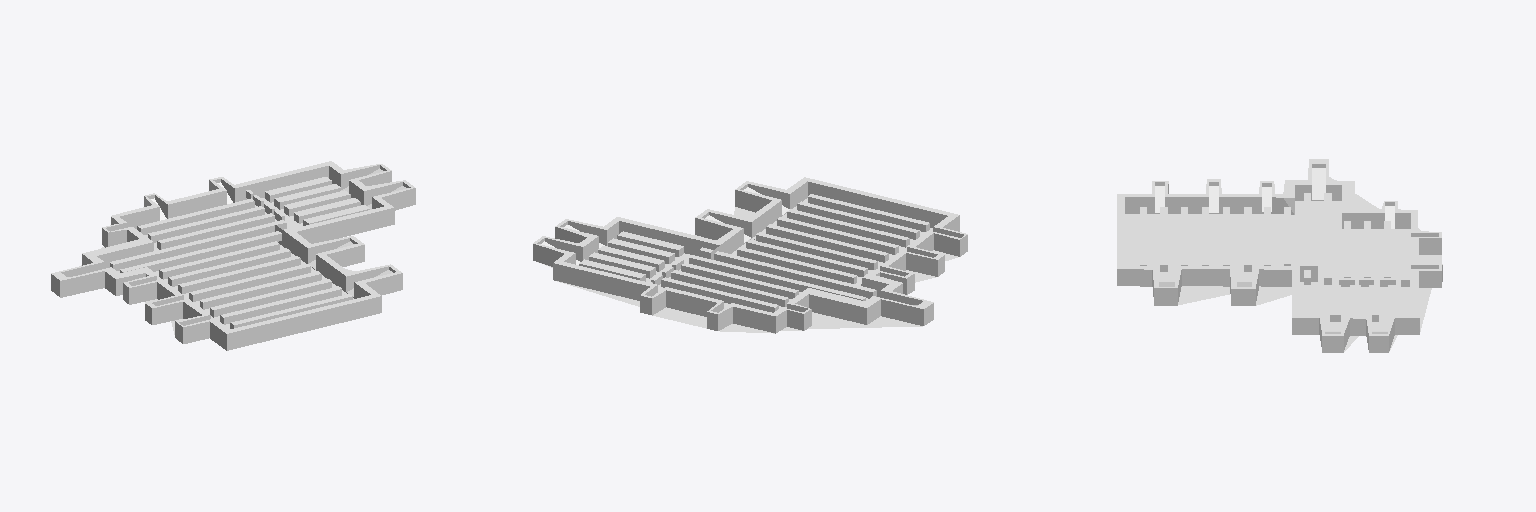
Rendered from 二号坑3D模型.obj.
3 views of the same model, side by side, from view 1: azimuth 30°, elevation 25°; view 2: azimuth 150°, elevation 25°; view 3: azimuth 270°, elevation 25° (orthographic).
Visible parts, largest first — view 1: 挤压, 封顶_2, 立方体, 立方体.10, 立方体.9, 立方体.6, 立方体.5, 立方体.4_3, 立方体.3_3, 立方体.1_6, 立方体.7, 立方体.8 (+8 smaller); view 2: 挤压, 封顶_2, 立方体, 封顶_1, 立方体.9, 立方体.10, 立方体.5, 立方体.3_3, 立方体.4_3, 立方体.1_6, 立方体.2_3, 立方体.6 (+9 smaller); view 3: 立方体, 挤压, 封顶_2, 封顶_1, 立方体.10, 立方体.9.
Part boxes in pixels (bbox=[...]): 挤压: bbox=[51, 171, 415, 350]; 封顶_2: bbox=[51, 161, 414, 333]; 立方体: bbox=[97, 166, 383, 328]; 立方体.10: bbox=[110, 220, 286, 270]; 立方体.9: bbox=[120, 227, 293, 272]; 立方体.6: bbox=[178, 256, 300, 293]; 立方体.5: bbox=[189, 264, 310, 301]; 立方体.4_3: bbox=[200, 271, 321, 309]; 立方体.3_3: bbox=[210, 279, 331, 317]; 立方体.1_6: bbox=[220, 286, 341, 324]; 立方体.7: bbox=[168, 248, 290, 286]; 立方体.8: bbox=[159, 241, 279, 279]; 挤压: bbox=[533, 190, 967, 333]; 封顶_2: bbox=[533, 177, 967, 315]; 立方体: bbox=[564, 181, 947, 308]; 封顶_1: bbox=[538, 207, 957, 333]; 立方体.9: bbox=[699, 247, 876, 298]; 立方体.10: bbox=[689, 255, 865, 300]; 立方体.5: bbox=[766, 224, 888, 262]; 立方体.3_3: bbox=[787, 209, 909, 247]; 立方体.4_3: bbox=[777, 217, 898, 254]; 立方体.1_6: bbox=[797, 201, 919, 239]; 立方体.2_3: bbox=[808, 194, 929, 231]; 立方体.6: bbox=[756, 232, 877, 269]; 立方体: bbox=[1125, 185, 1410, 330]; 挤压: bbox=[1117, 184, 1442, 352]; 封顶_2: bbox=[1117, 159, 1442, 335]; 封顶_1: bbox=[1178, 177, 1441, 351]; 立方体.10: bbox=[1324, 193, 1331, 284]; 立方体.9: bbox=[1304, 193, 1310, 284].
Size of the model in its own units: 1111 by 50 by 864.